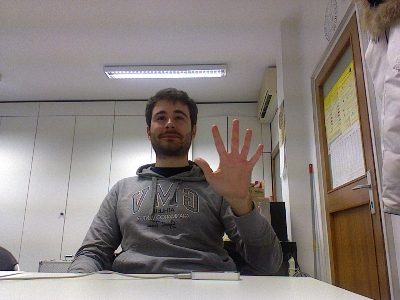布: (193, 116, 264, 197)
